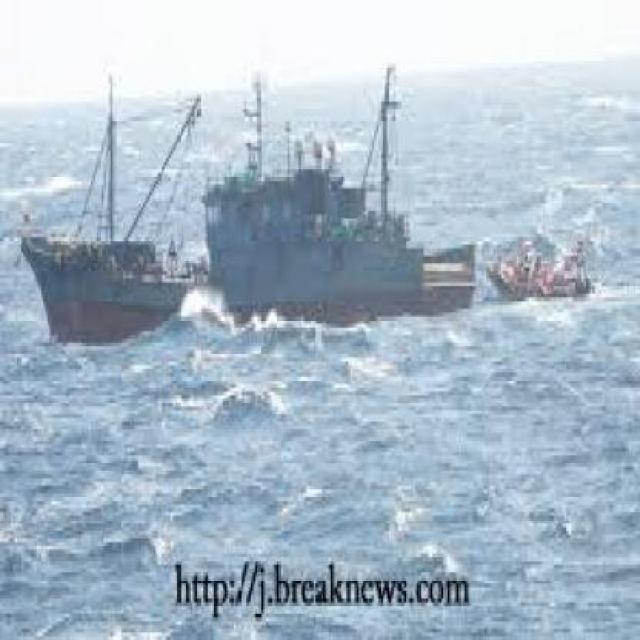fish-b: (5, 50, 488, 367)
